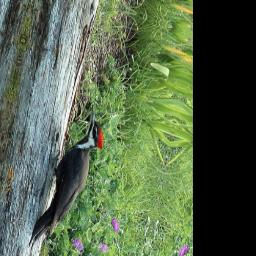Woodpecker: (29, 95, 110, 256)
